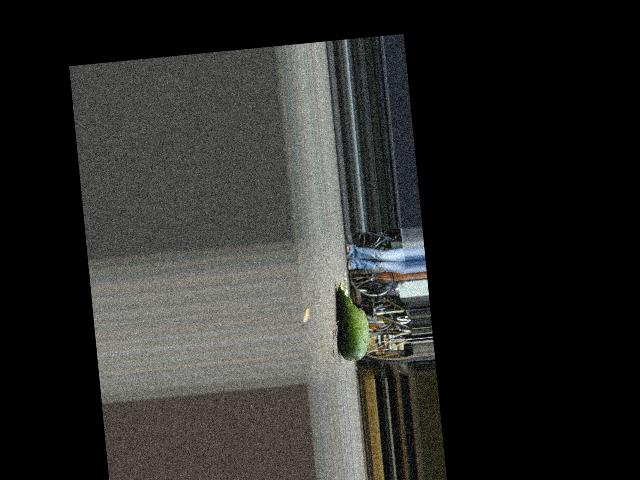cucumber: (332, 278, 371, 362)
